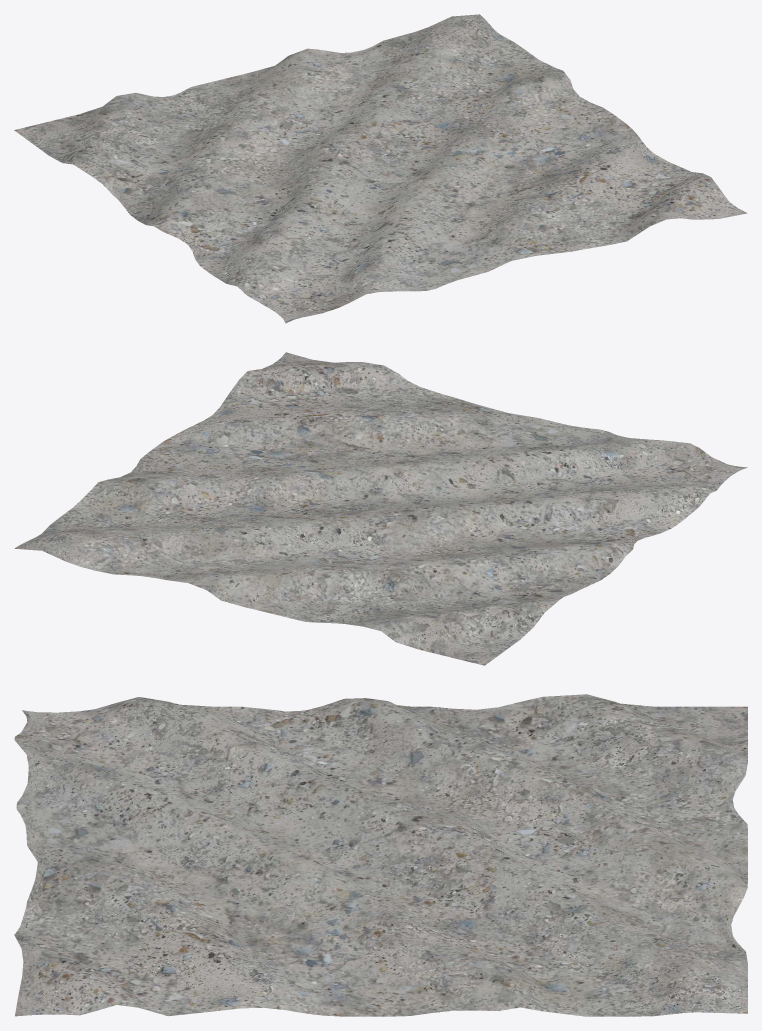
File: seafloor.fbx
3 views of the same model, one above another, from view 1: azimuth 30°, elevation 25°; view 2: azimuth 150°, elevation 25°; view 3: azimuth 270°, elevation 25° (orthographic). The views are drawn at different scales.
Visible parts, largest first — view 1: pPlane1; view 2: pPlane1; view 3: pPlane1.
Boxes of the visible parts, x1,y1,x2,y2 form: pPlane1: (14, 14, 747, 323); pPlane1: (14, 352, 747, 665); pPlane1: (14, 694, 747, 1016).
Bounding box in the file's own units: 34.1 × 0.8779 × 34.1.
1 material, 1 textured.
